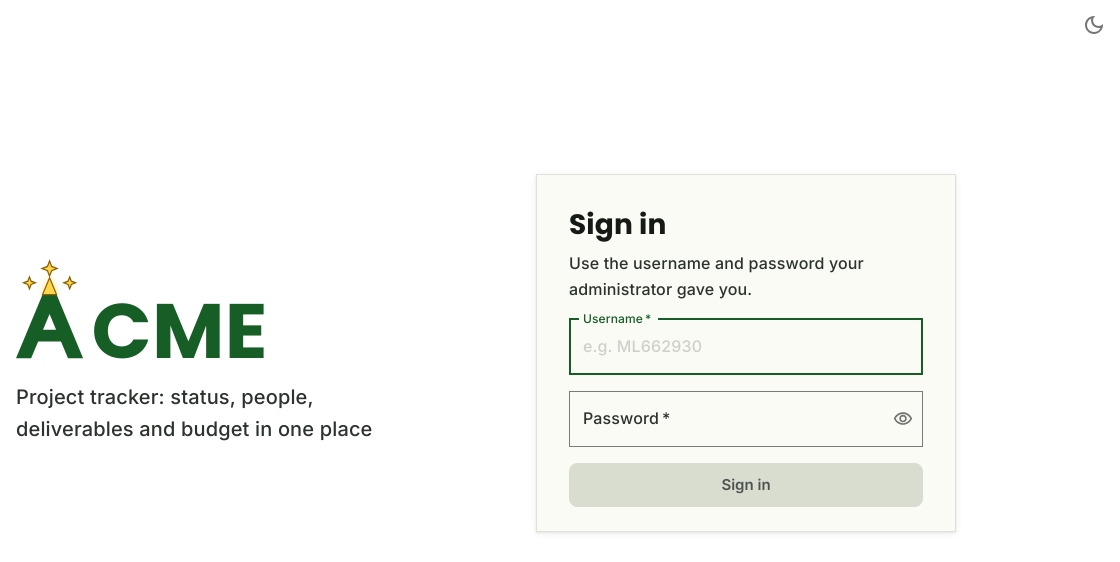
Test: LoginPage › shows the server's message when the password is wrong
The image size is (1120, 562).
Type "ML662930" into the field labelled "Username *". click: (746, 347)
box: [569,319,923,375]
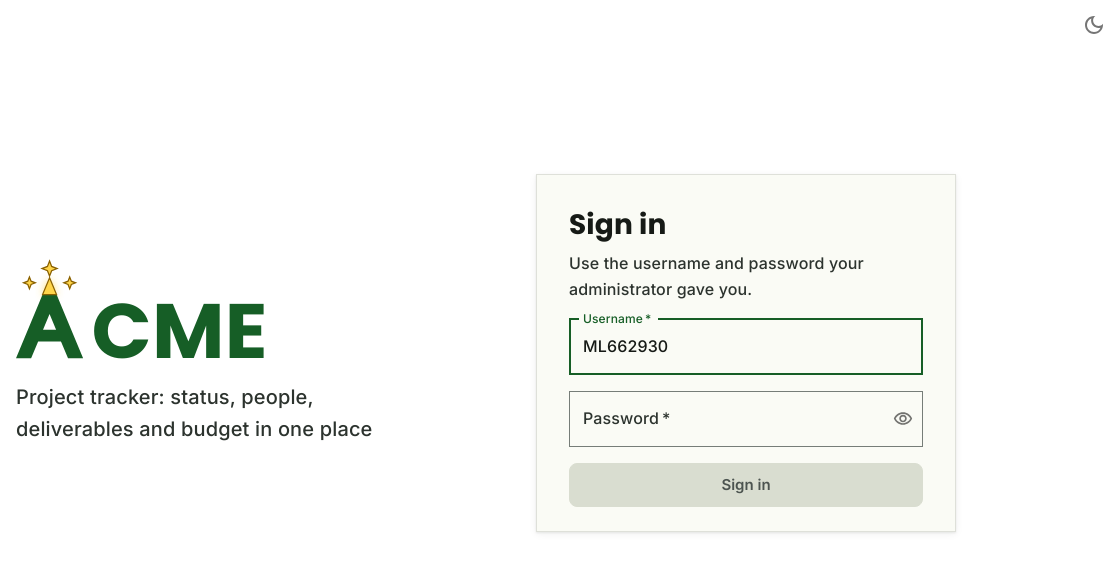
Type "nope" into the password field labelled "Password *". click: (723, 419)
box: [569,391,877,447]
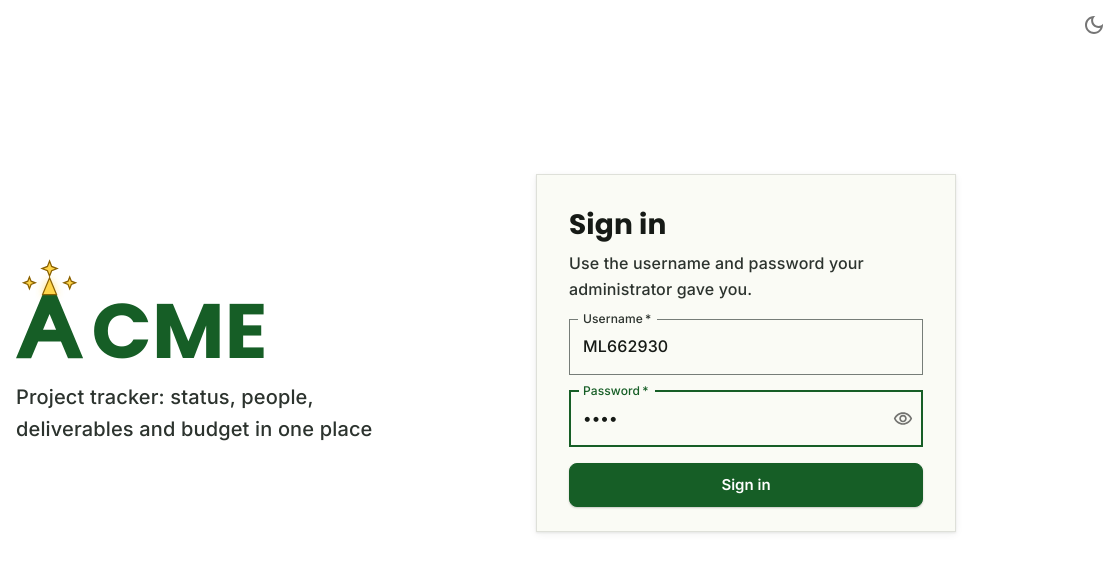
Click the button "Sign in". click: (746, 485)
box: [569,463,923,507]
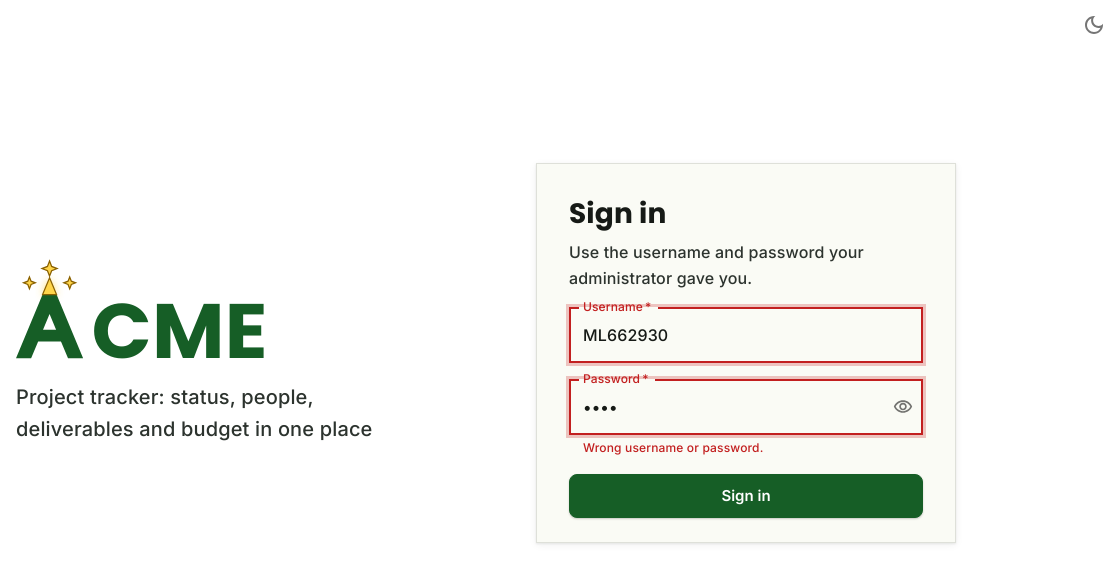
Expected: the text "Wrong username or password." is shown, [583,440,764,455]
